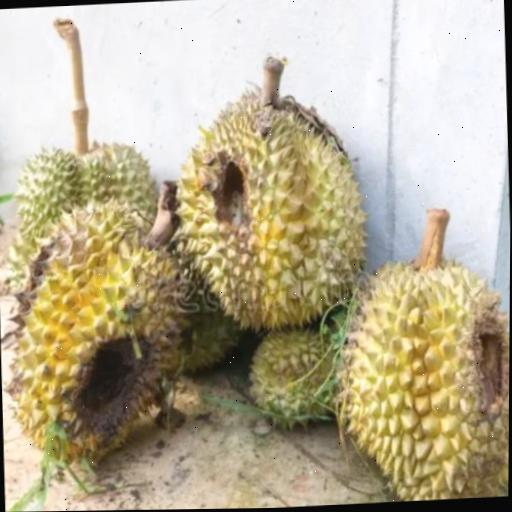rot: (143, 20, 416, 352), (0, 179, 215, 510), (297, 180, 511, 506)
